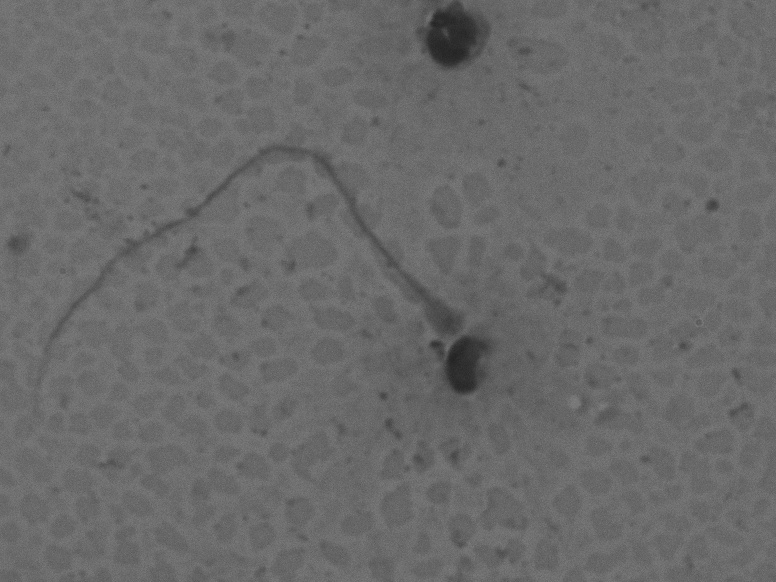Abnormal: (20, 121, 496, 452)
